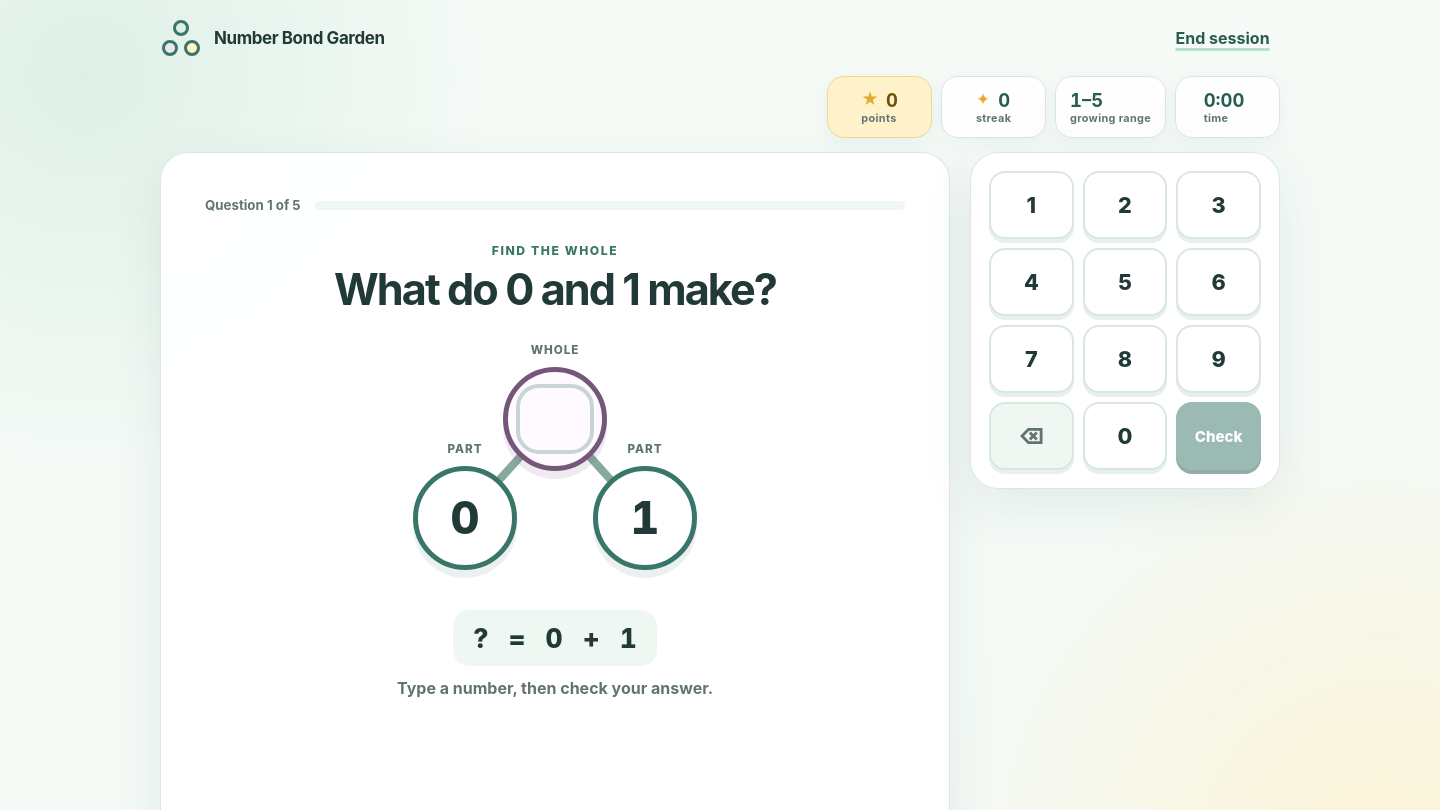
Test: PracticeScreen › reveals a counting hint after two misses and offers the answer after three
This screenshot has width=1440, height=810.
Type "9" into the field named "Missing whole" at [555, 419], box [521,389,589,449]
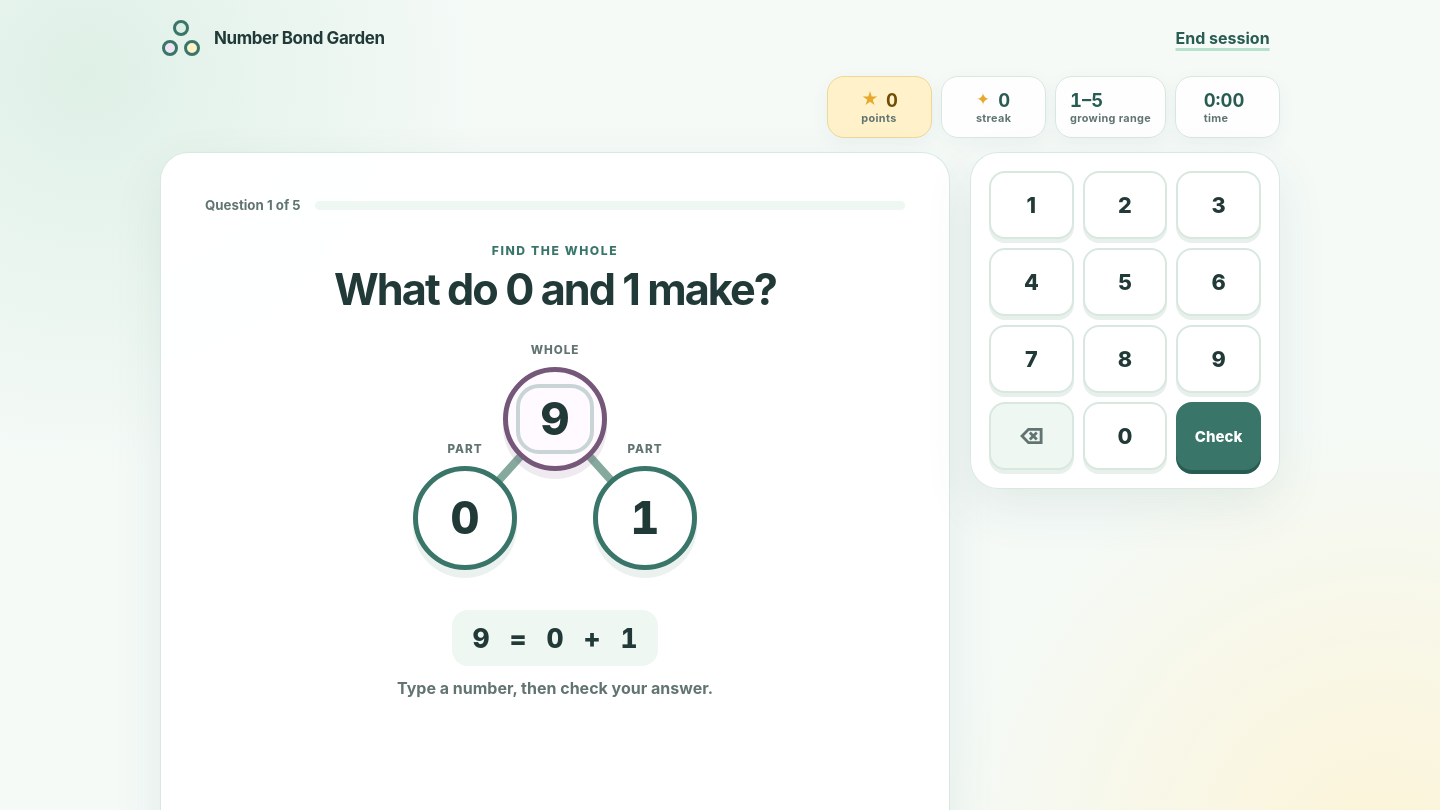
Click the button "Check" at [1219, 436], box [1176,402,1261,470]
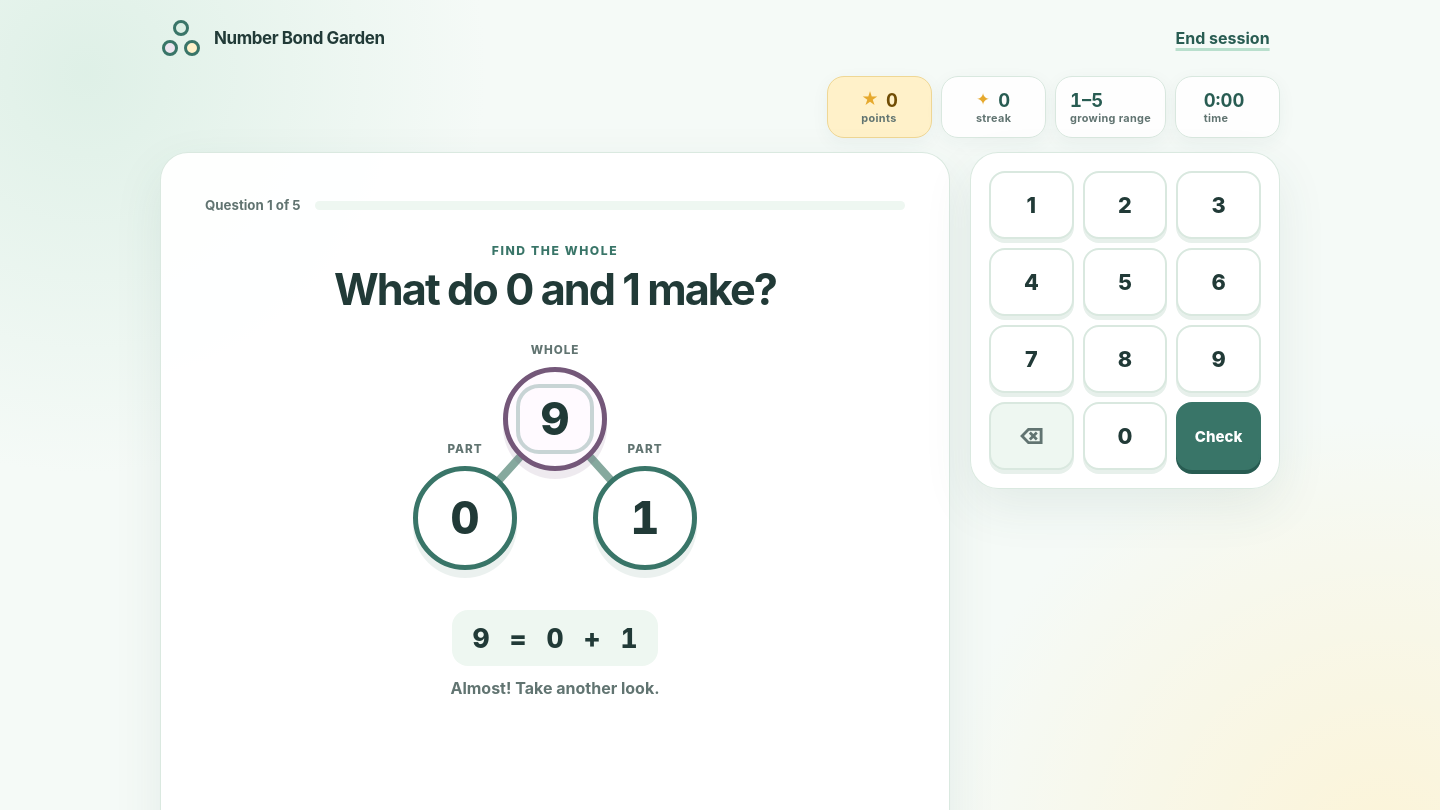
Expected: the text "Almost! Take another look." is shown, [450,678,660,698]
Click the button "Check" at [1219, 436], box [1176,402,1261,470]
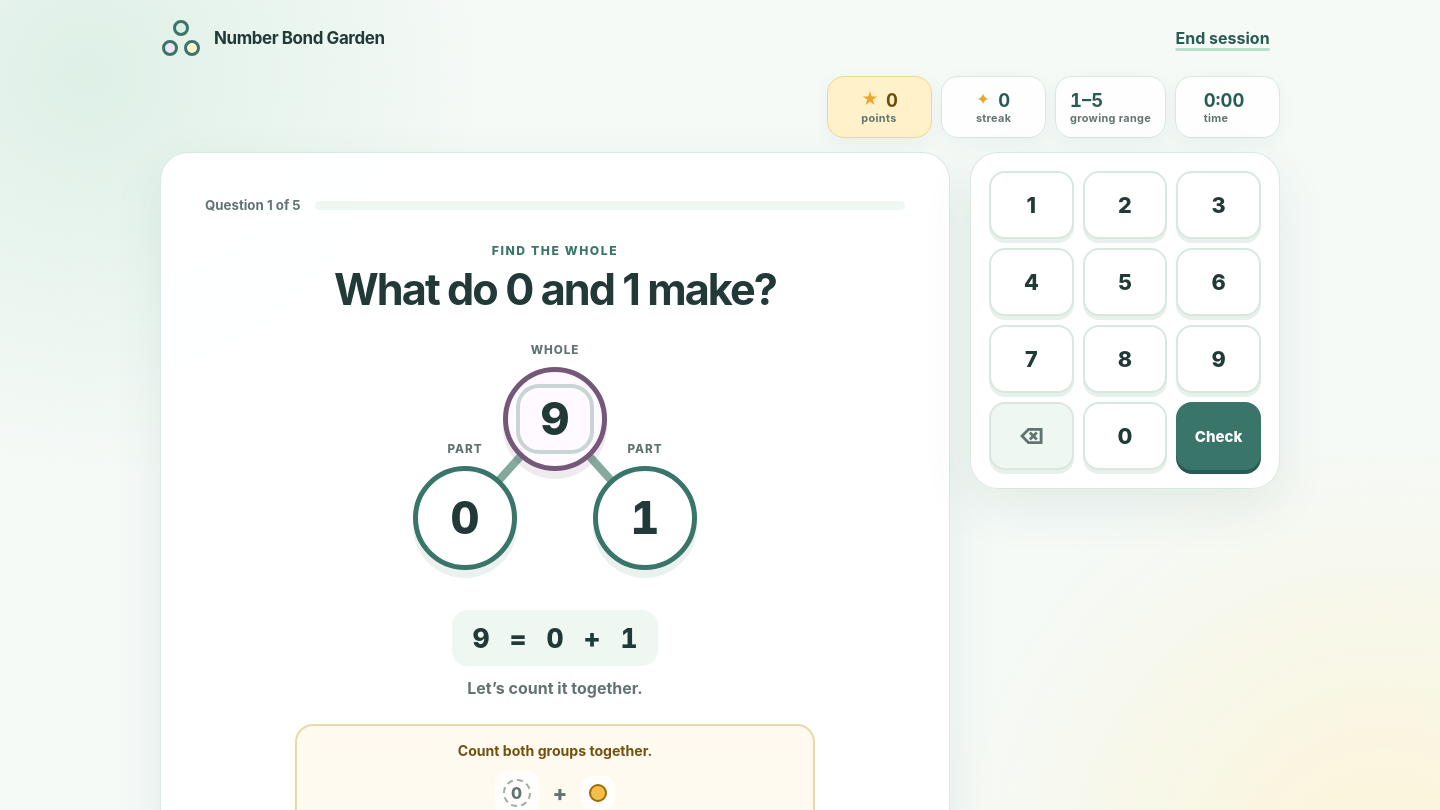
Expected: the text "Count both groups together." is shown, [458,742,652,759]
Click the button "Check" at [1219, 436], box [1176,402,1261,470]
(page scrolled)
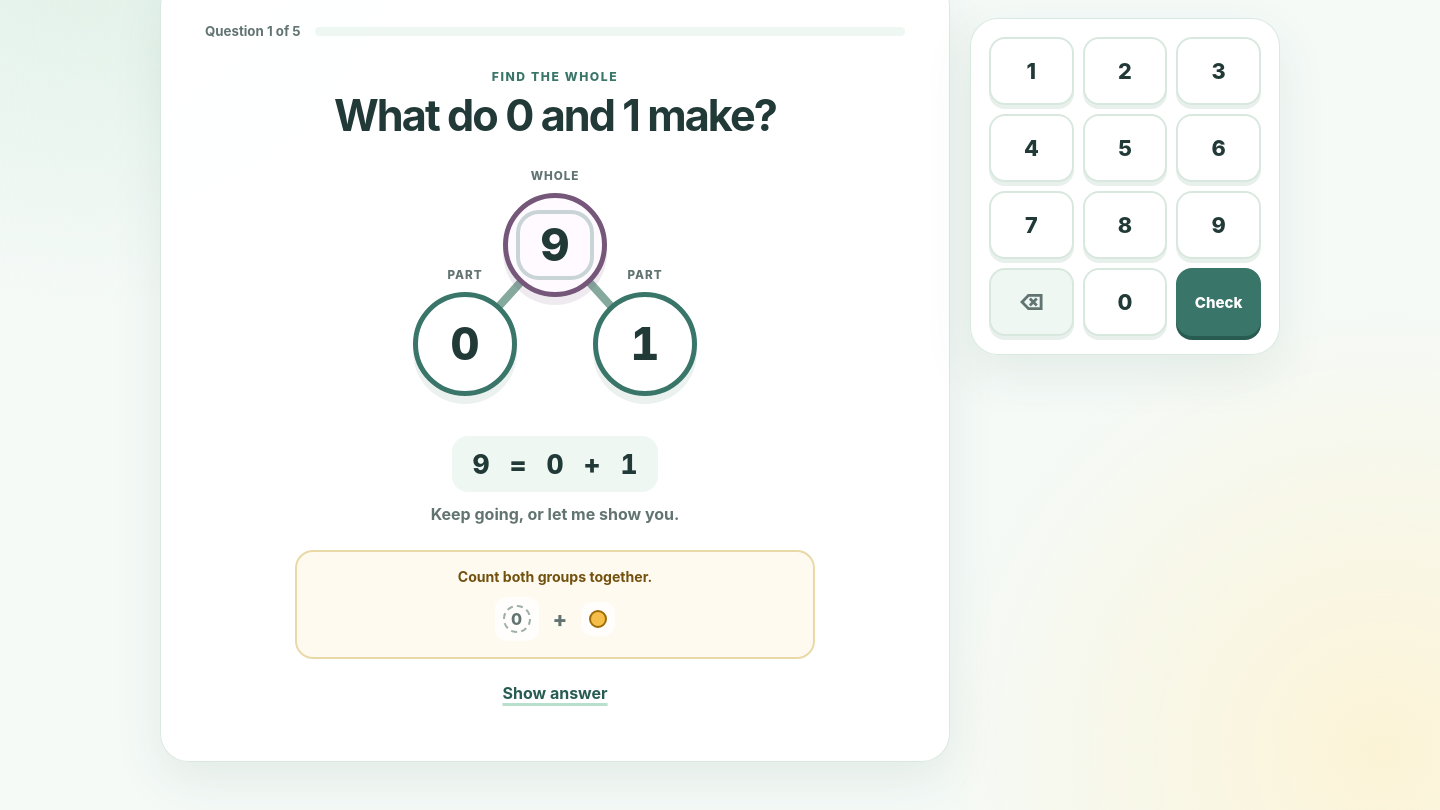
Click the button "Show answer" at [555, 693], box [492,669,618,717]
(page scrolled)
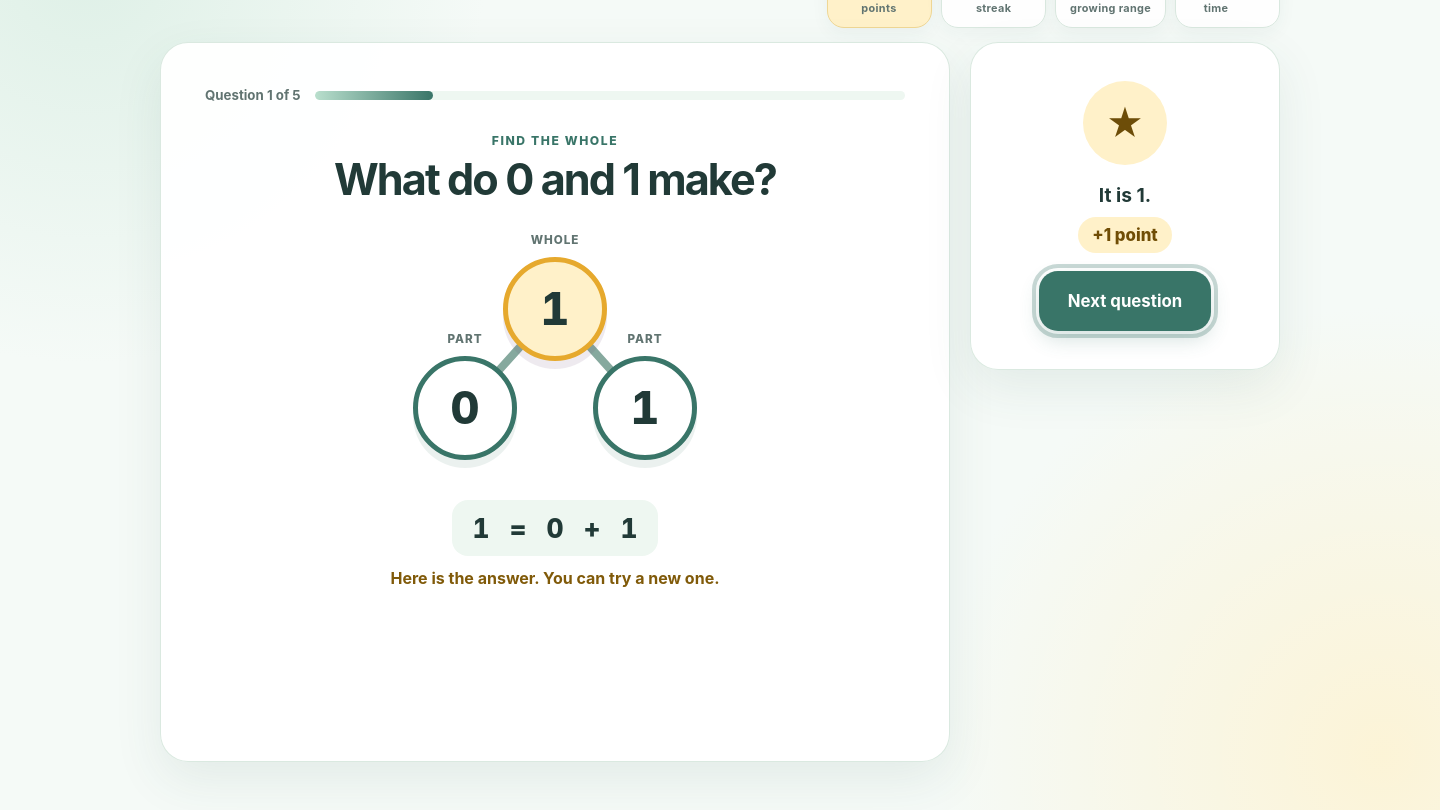
Expected: the field named "Missing whole" holds "1", [521,279,589,339]
Expected: the text "Here is the answer. You can try a new one." is shown, [390,568,720,588]
